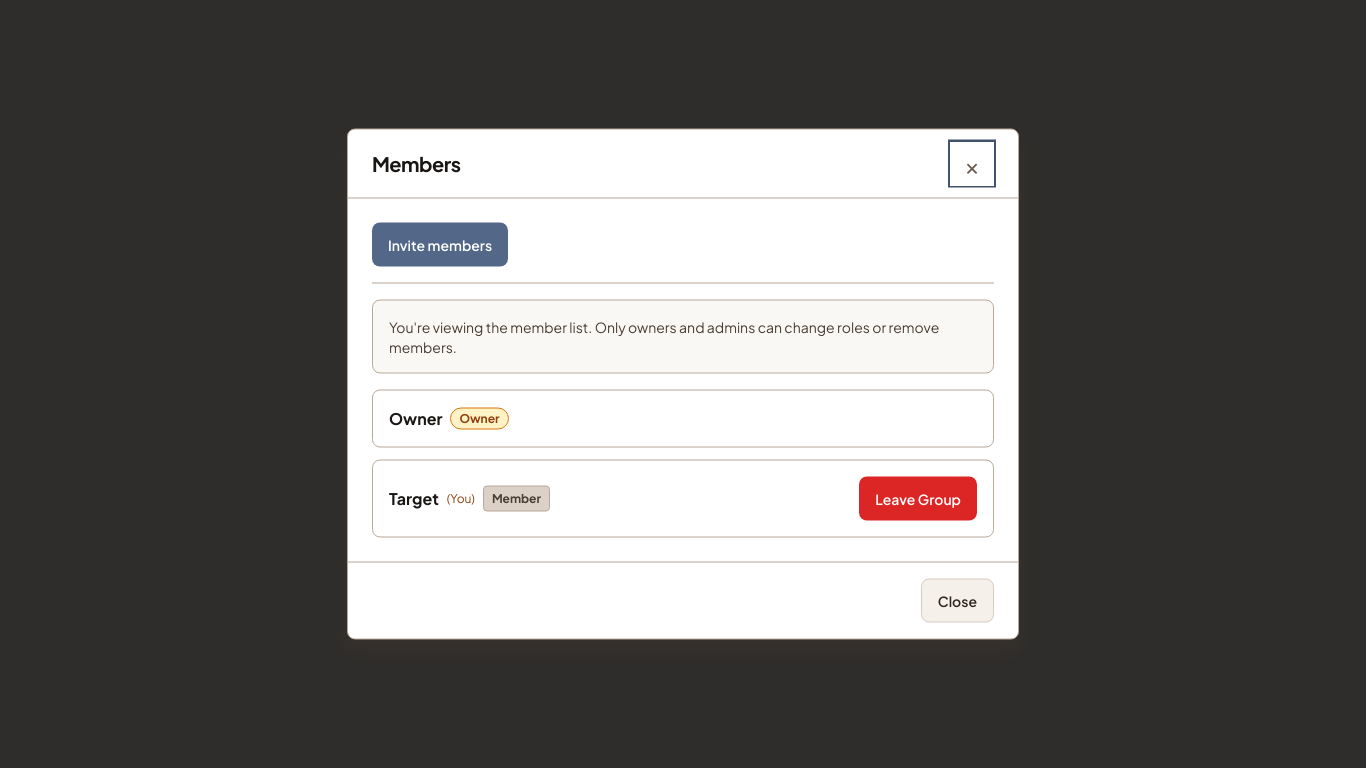
Scenario: ManageMembers — Req 9 modal migration proof (leave-group confirm) › exposes role=dialog labelled by its title
The image size is (1366, 768).
Expected: the dialog "Members" is shown, [347, 128, 1019, 640]
Click the button "Leave Group": coordinates (918, 498) [859, 476, 977, 520]
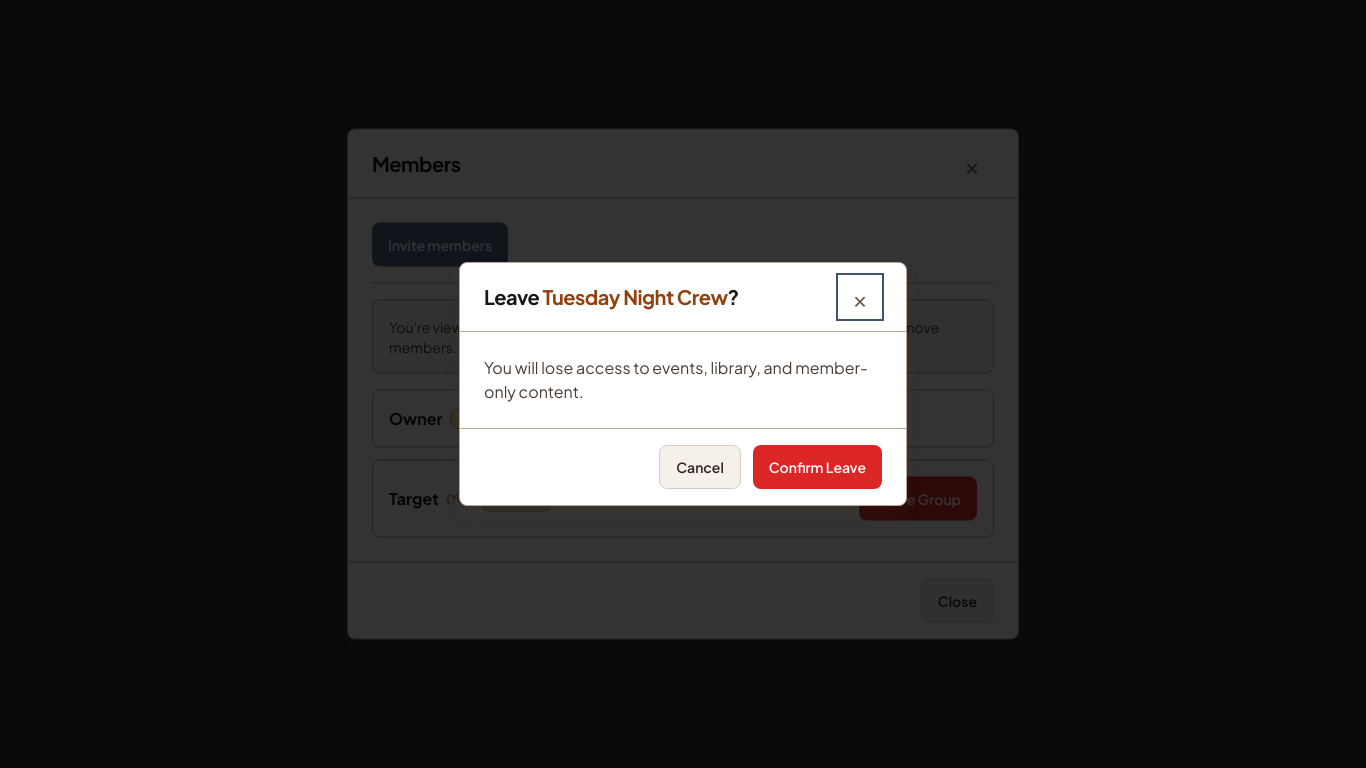
Now the dialog "Leave Tuesday Night Crew?" is shown, box [459, 262, 907, 506]
